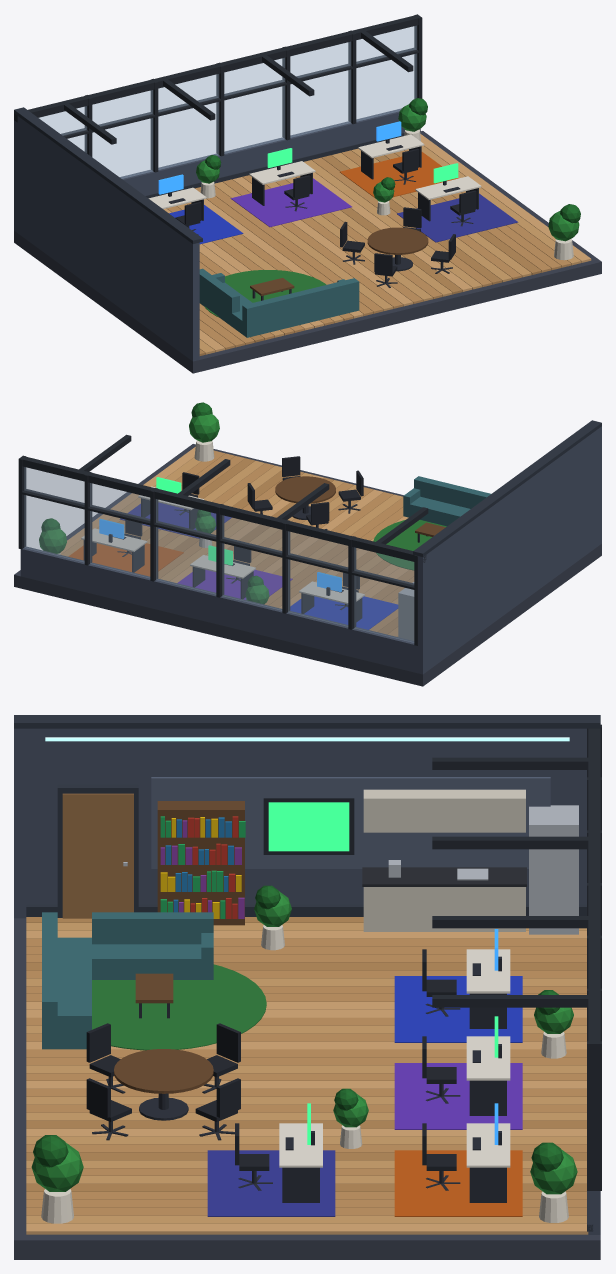
The model's file is office.glb.
3 renders of one model, top to bottom at view 1: azimuth 30°, elevation 25°; view 2: azimuth 150°, elevation 25°; view 3: azimuth 270°, elevation 25°, orthographic. The views are drawn at different scales.
Visible parts, largest first — view 1: Wall.001, Glass, Wood0, Frame, Slab, Wood1, Wood3, Sofa, OfficeChair, Trim, Desk, RugPurple (+12 smaller); view 2: Wall.001, Glass, Frame, Slab, Wood0, Wood1, Wood3, OfficeChair, Sofa, Trim, DeskLeg, Desk (+13 smaller); view 3: Wood0, Wall.001, Wood1, Wood3, Slab, Frame, Wall, Sofa, Counter, Trim, Wood2, Table (+21 smaller).
Boxes of the visible parts, x1=… form: Wall.001: x1=14, y1=108, x2=404, y2=361; Glass: x1=39, y1=26, x2=416, y2=178; Wood0: x1=166, y1=149, x2=571, y2=349; Frame: x1=14, y1=14, x2=422, y2=172; Slab: x1=14, y1=131, x2=601, y2=373; Wood1: x1=177, y1=145, x2=581, y2=354; Wood3: x1=163, y1=134, x2=591, y2=352; Sofa: x1=199, y1=268, x2=359, y2=337; OfficeChair: x1=175, y1=148, x2=476, y2=276; Trim: x1=14, y1=107, x2=420, y2=243; Desk: x1=148, y1=134, x2=481, y2=209; RugPurple: x1=230, y1=178, x2=351, y2=227; Wall.001: x1=20, y1=426, x2=601, y2=674; Glass: x1=24, y1=467, x2=413, y2=642; Frame: x1=18, y1=434, x2=428, y2=645; Slab: x1=14, y1=444, x2=601, y2=686; Wood0: x1=118, y1=451, x2=414, y2=636; Wood1: x1=61, y1=450, x2=402, y2=604; Wood3: x1=60, y1=447, x2=409, y2=608; OfficeChair: x1=124, y1=456, x2=363, y2=592; Sofa: x1=403, y1=476, x2=490, y2=526; Trim: x1=413, y1=420, x2=601, y2=556; DeskLeg: x1=83, y1=498, x2=427, y2=621; Desk: x1=81, y1=486, x2=364, y2=604; Wood0: x1=26, y1=938, x2=586, y2=1215; Wall.001: x1=14, y1=728, x2=600, y2=1234; Wood1: x1=26, y1=923, x2=586, y2=1223; Wood3: x1=26, y1=930, x2=588, y2=1234; Slab: x1=14, y1=918, x2=600, y2=1259; Frame: x1=263, y1=724, x2=601, y2=1190; Wall: x1=151, y1=777, x2=550, y2=868; Sofa: x1=42, y1=912, x2=213, y2=1049; Counter: x1=363, y1=789, x2=525, y2=931; Trim: x1=14, y1=715, x2=600, y2=1231; Wood2: x1=26, y1=917, x2=586, y2=1191; Table: x1=114, y1=801, x2=244, y2=1093.
Size of what is drawn, in the model's own units: 12.4 by 3.85 by 9.42.
